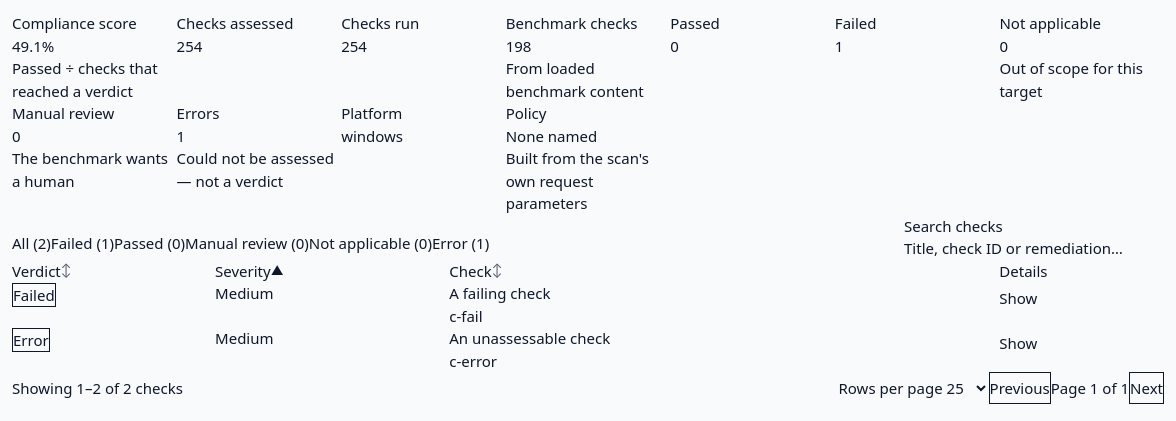
Test: ConfigAuditSection — ERROR is its own state › filters to error rows without matching failures
Click the button "Error (1)" at coordinates (460, 244), box [432,228,489,260]
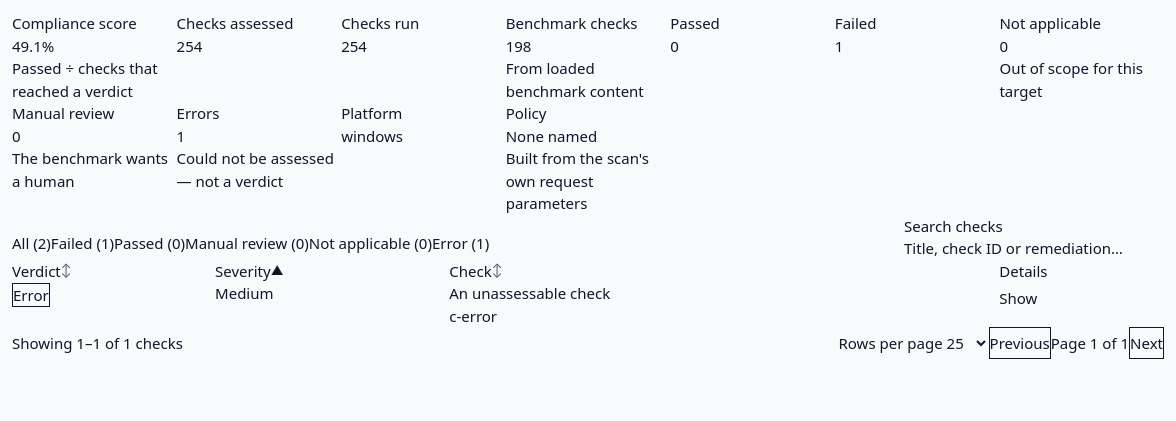
Expected: the text "An unassessable check" is shown, [449,283,610,303]
Result: the text "A failing check" is gone
